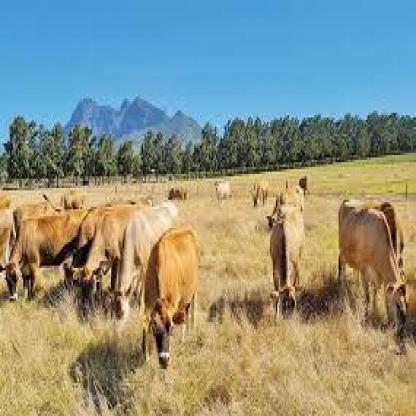cow: (338, 196, 408, 333), (106, 204, 179, 326), (142, 222, 201, 368), (0, 213, 83, 304), (268, 219, 304, 320), (275, 187, 303, 215), (59, 187, 87, 210), (248, 181, 269, 207), (214, 178, 233, 204), (167, 183, 188, 202)
